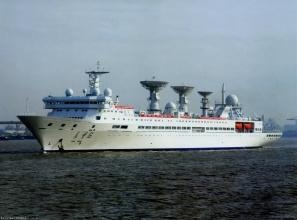Cargoship: (17, 65, 281, 155)
